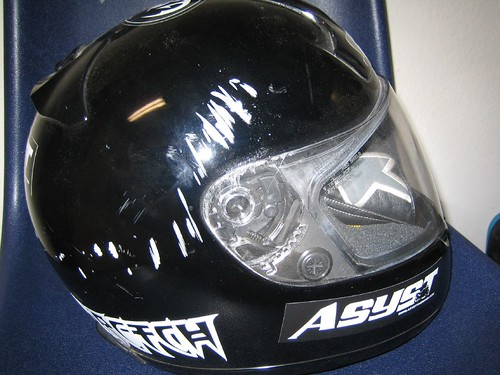helmet: (9, 2, 477, 374)
